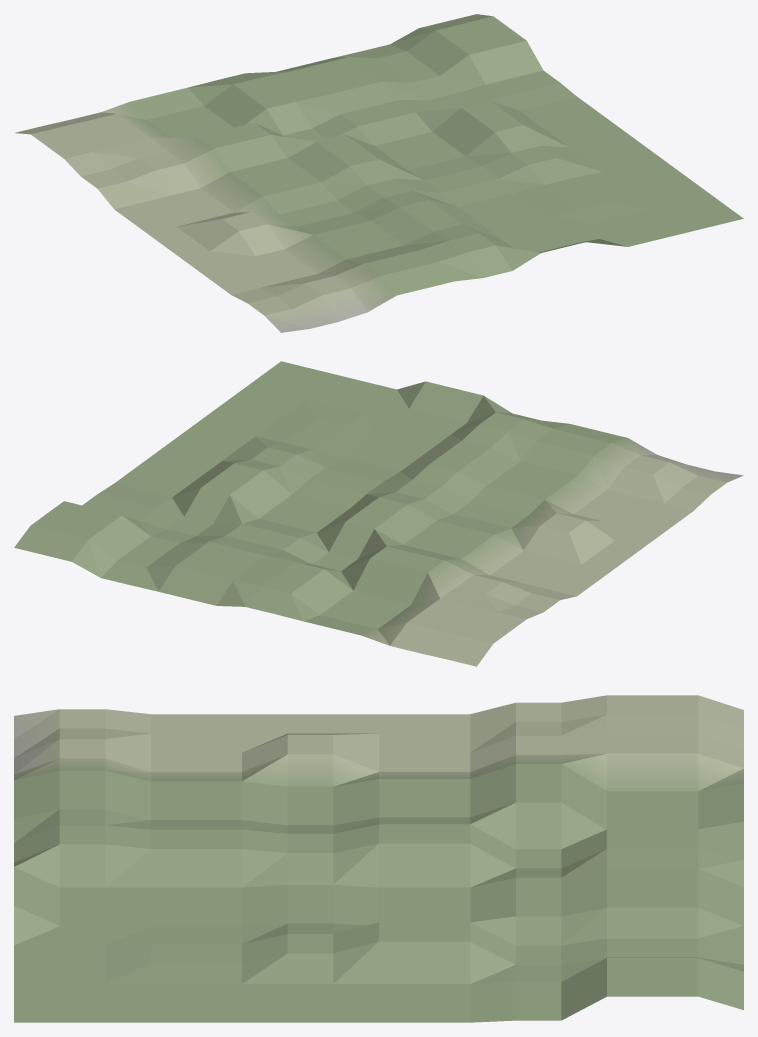
The picture shows the model from 3 angles, top to bottom: view 1: azimuth 30°, elevation 25°; view 2: azimuth 150°, elevation 25°; view 3: azimuth 270°, elevation 25°; orthographic projection. The views are drawn at different scales.
Size of the model in its own units: 32 by 1.6 by 32.
